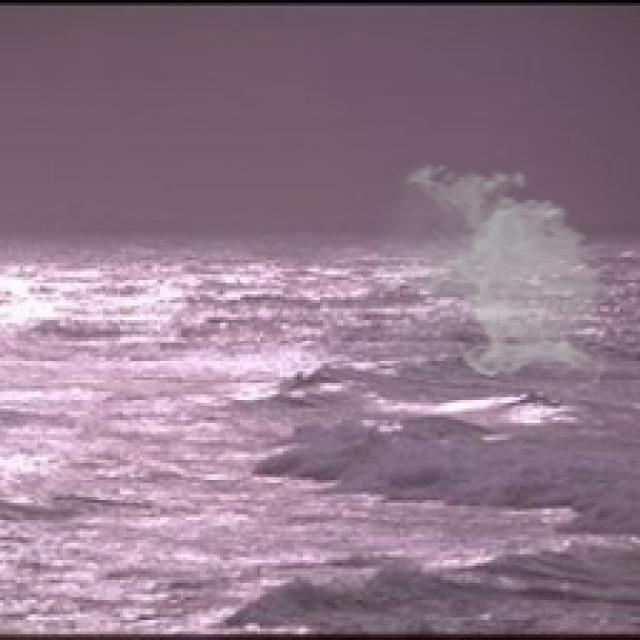Smoke: (377, 157, 614, 383)
